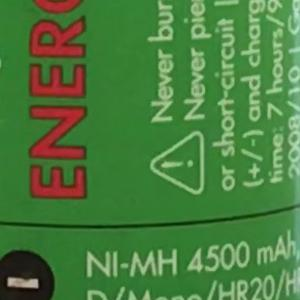keyword: (78, 242, 183, 285)
